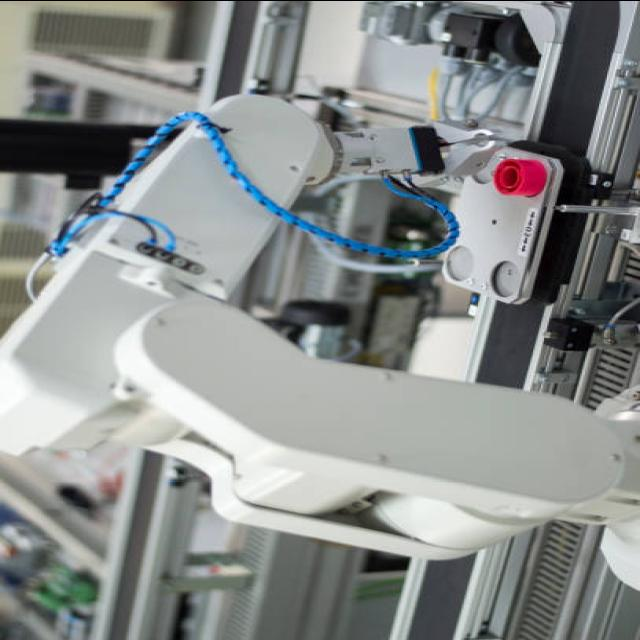Robotic-arm: (0, 83, 640, 591)
